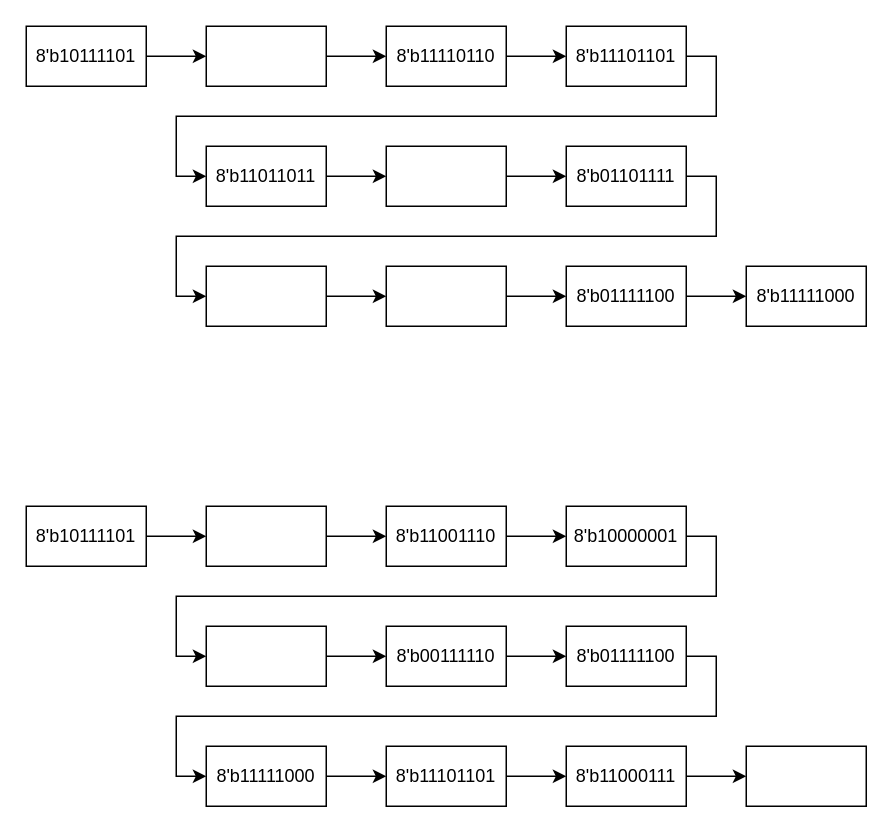
Some shapes in this 893 by 833 pixel diagram are drawn without their labels. The centre of each missing label's shape, as x and y in pixels:
"8'b00011111" belongs at point (265, 655).
"8'b01100111" belongs at point (265, 535).
"8'b01111011" belongs at point (265, 55).
"8'b10010011" belongs at point (805, 775).
"8'b10110111" belongs at point (445, 175).
"8'b10111110" belongs at point (445, 295).
"8'b11011111" belongs at point (265, 295).
